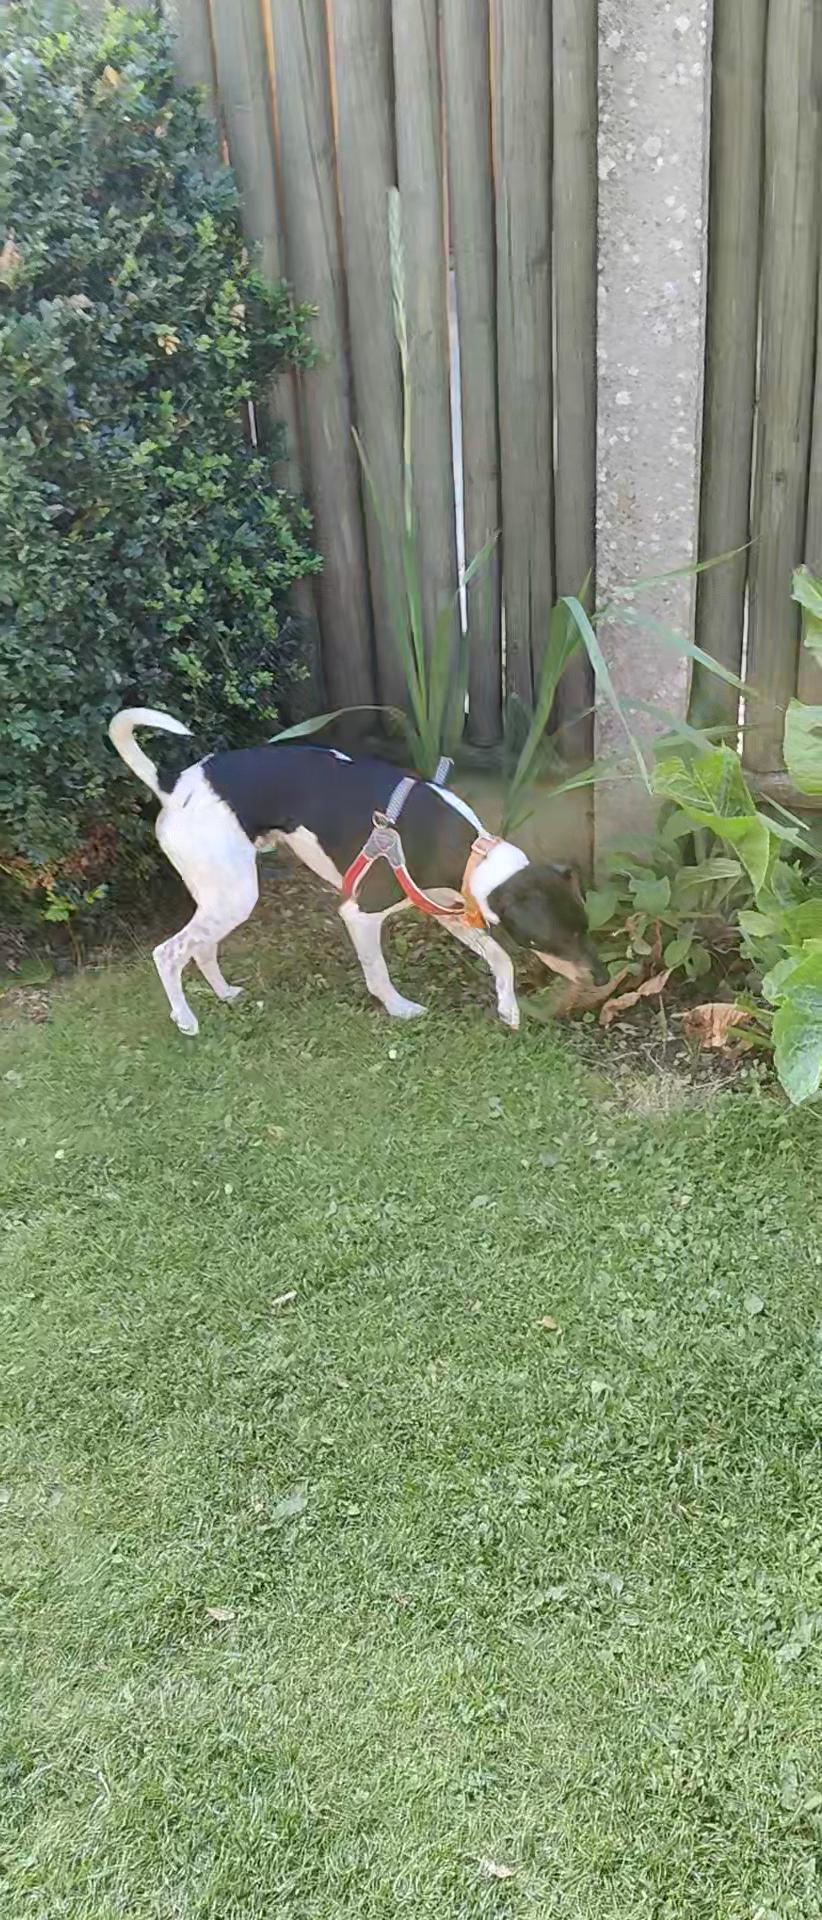Dog: (87, 684, 624, 1064)
